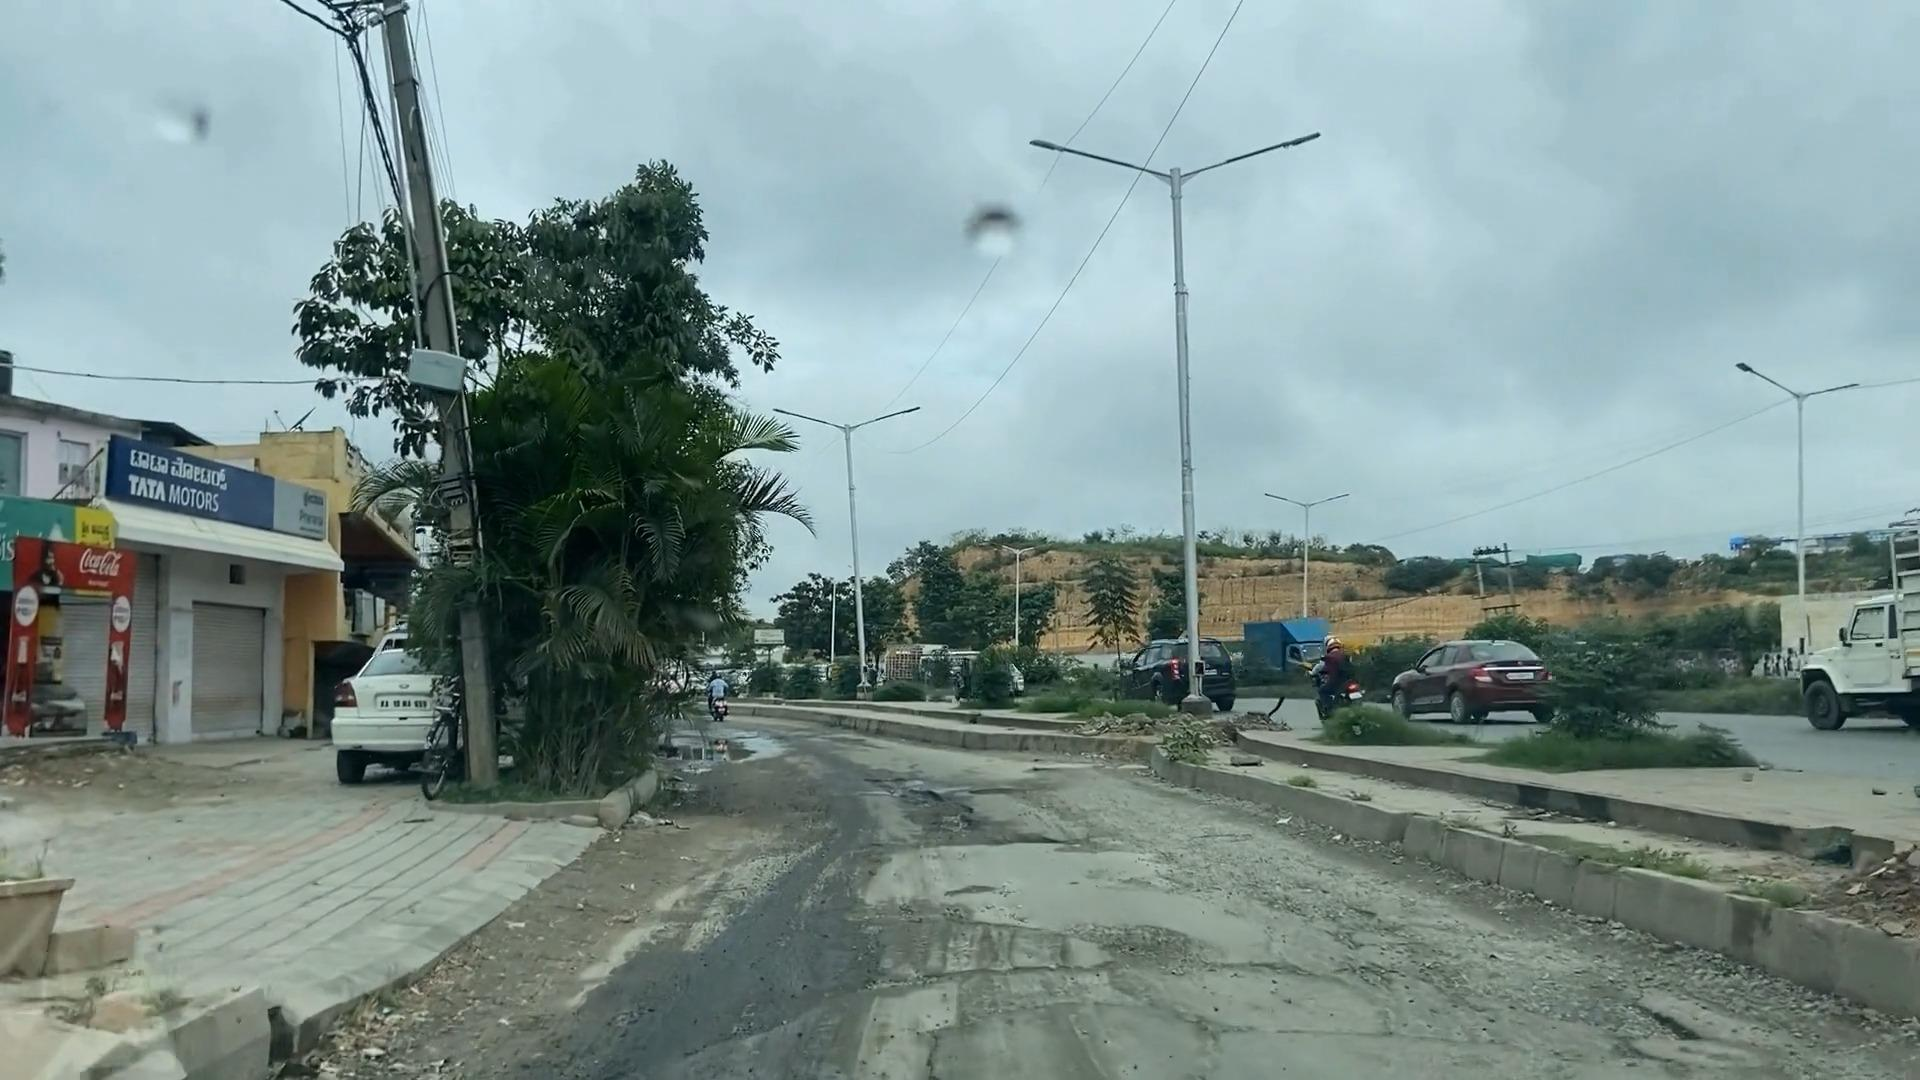RoadDamages: (1130, 886, 1548, 1040), (851, 914, 1121, 1080), (1564, 960, 1788, 1080), (873, 764, 1087, 870)
